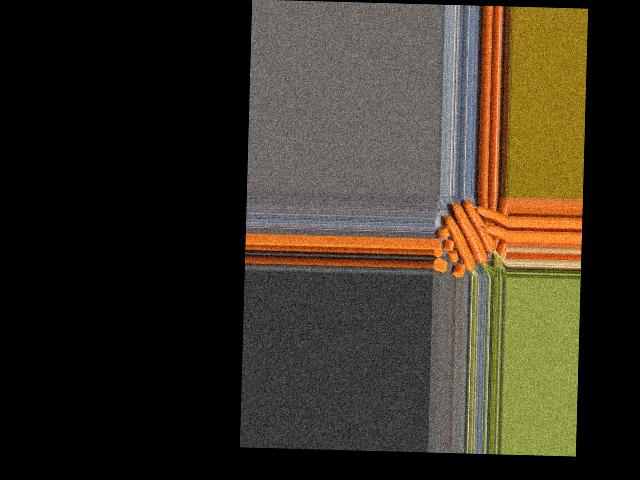carrot: (462, 198, 498, 253)
